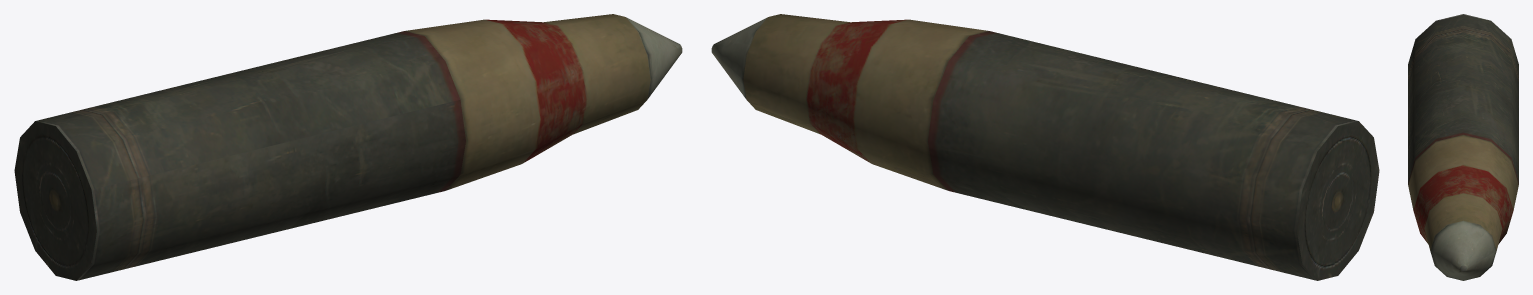
File: VV_ArtyShell.fbx
3 views of the same model, side by side, from view 1: azimuth 30°, elevation 25°; view 2: azimuth 150°, elevation 25°; view 3: azimuth 270°, elevation 25° (orthographic). The views are drawn at different scales.
Visible parts, largest first — view 1: VV_ArtyShell; view 2: VV_ArtyShell; view 3: VV_ArtyShell.
Boxes of the visible parts, x1,y1,x2,y2 form: VV_ArtyShell: [14, 14, 682, 280]; VV_ArtyShell: [711, 14, 1379, 280]; VV_ArtyShell: [1408, 14, 1518, 280].
Bounding box in the file's own units: 133 × 30.39 × 30.39.
1 material, 1 textured.
